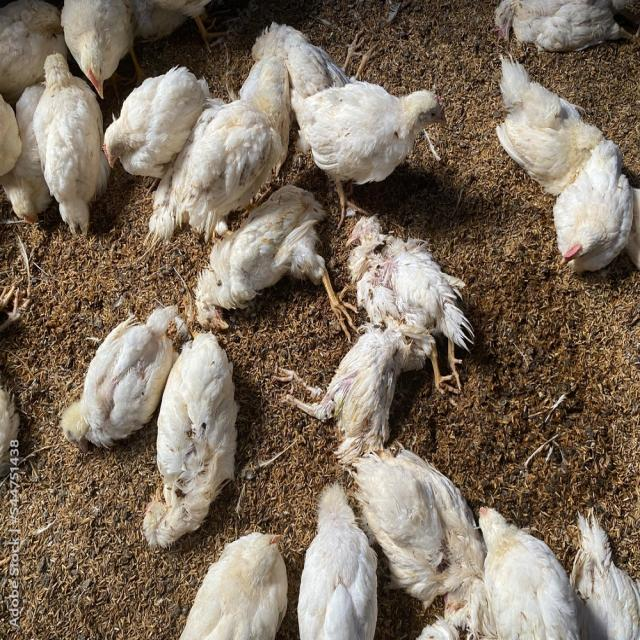Unhealthy: (184, 184, 362, 346), (270, 302, 434, 477), (341, 205, 481, 403), (55, 302, 176, 446)
